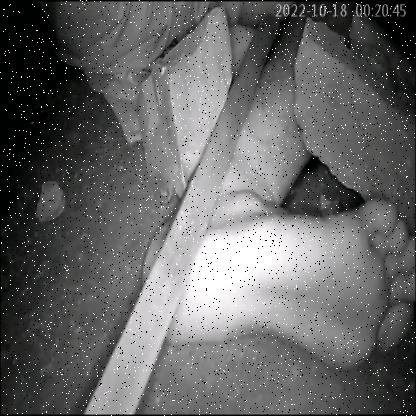leg: (131, 141, 416, 382)
